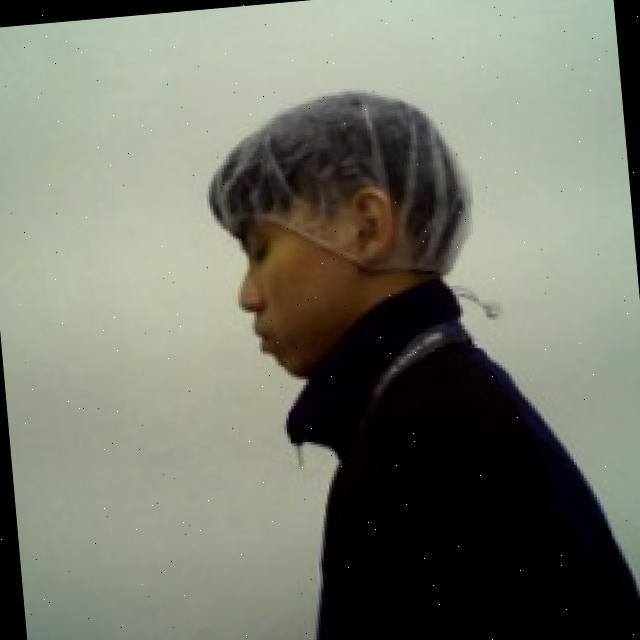gloves: (198, 75, 486, 288)
no_hairnet: (223, 201, 414, 390)
